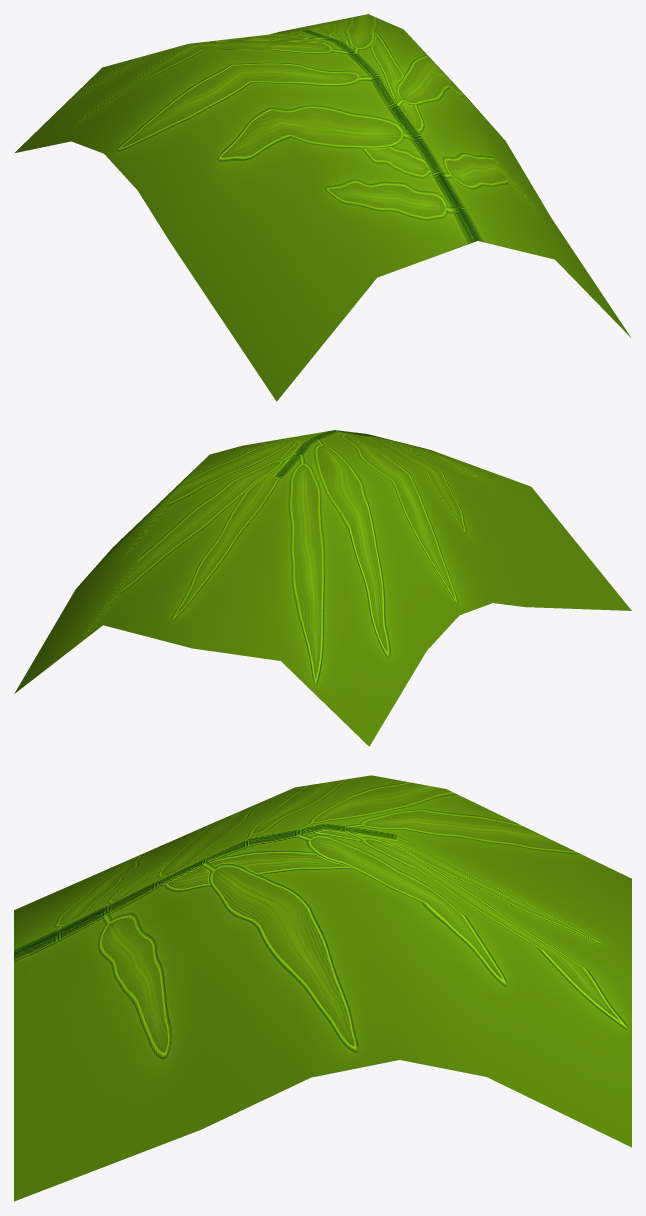
The model's file is BambooSet_part_54.fbx.
3 renders of one model, top to bottom at view 1: azimuth 30°, elevation 25°; view 2: azimuth 150°, elevation 25°; view 3: azimuth 270°, elevation 25°, orthographic. The views are drawn at different scales.
Parts seen in each view (by area): view 1: Object_89.001; view 2: Object_89.001; view 3: Object_89.001.
Boxes of the visible parts, left/top/right/bottom form: Object_89.001: left=14, top=14, right=630, bottom=401; Object_89.001: left=14, top=430, right=631, bottom=746; Object_89.001: left=14, top=775, right=631, bottom=1201.
Size of the model in its own units: 341 by 221 by 437.
